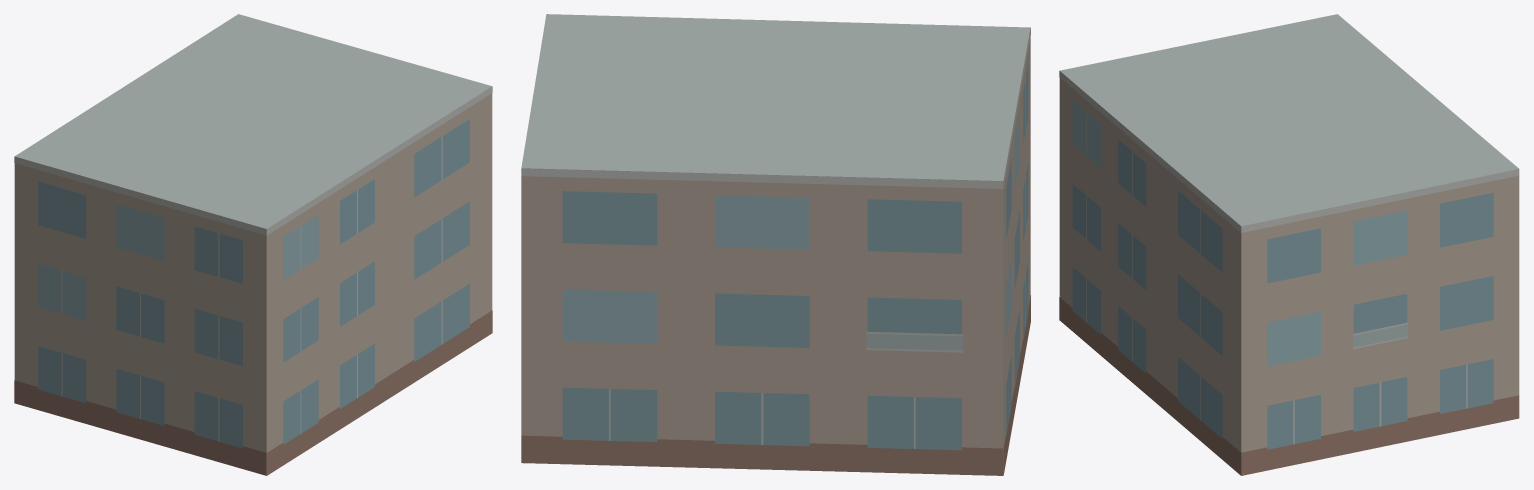
File: survey-upis-32983819.glb
The picture shows the model from 3 angles, left to right: view 1: azimuth 30°, elevation 25°; view 2: azimuth 150°, elevation 25°; view 3: azimuth 270°, elevation 25°; orthographic projection. The views are drawn at different scales.
Parts seen in each view (by area): view 1: survey-upis-32983819.tmp; view 2: survey-upis-32983819.tmp; view 3: survey-upis-32983819.tmp.
Part boxes in pixels (left/top/right/bottom): survey-upis-32983819.tmp: left=14, top=14, right=492, bottom=475; survey-upis-32983819.tmp: left=521, top=14, right=1030, bottom=475; survey-upis-32983819.tmp: left=1059, top=14, right=1519, bottom=475.
Bounding box in the file's own units: 16.71 × 9.15 × 15.29.
